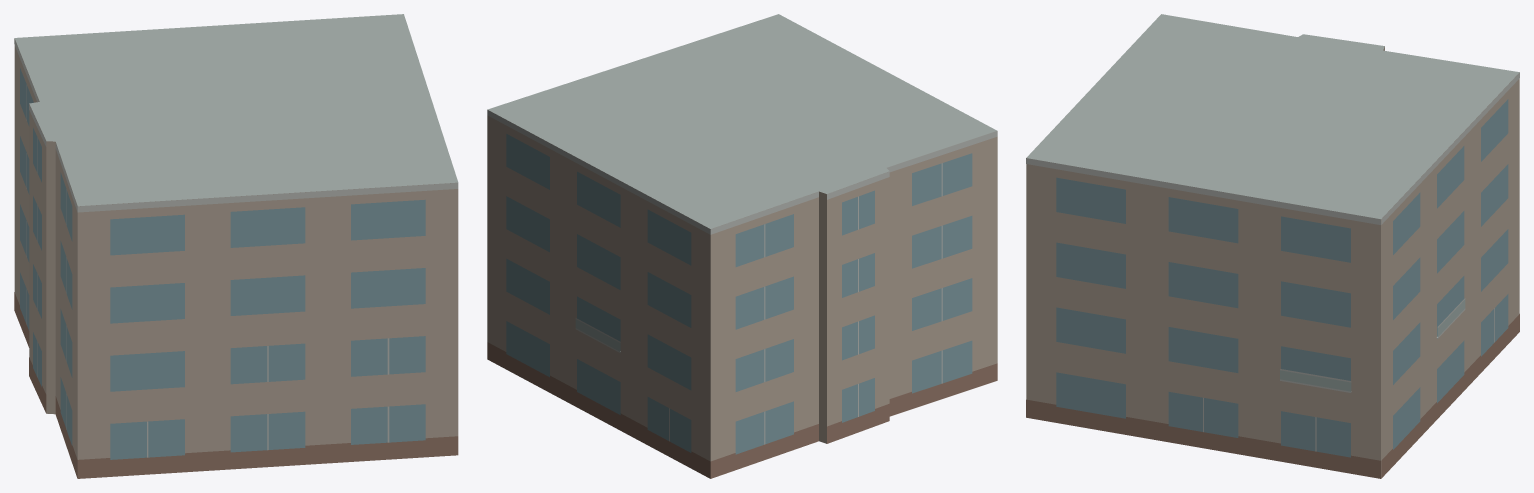
Rendered from survey-upis-32690769.glb.
The picture shows the model from 3 angles, left to right: view 1: azimuth 30°, elevation 25°; view 2: azimuth 150°, elevation 25°; view 3: azimuth 270°, elevation 25°; orthographic projection. The views are drawn at different scales.
Parts seen in each view (by area): view 1: survey-upis-32690769.tmp; view 2: survey-upis-32690769.tmp; view 3: survey-upis-32690769.tmp.
Part boxes in pixels (box(x1,y1,x2,y2)): survey-upis-32690769.tmp: box(14, 14, 458, 478); survey-upis-32690769.tmp: box(487, 14, 997, 478); survey-upis-32690769.tmp: box(1026, 14, 1519, 478).
Size of the model in its own units: 17.98 by 10.6 by 18.28.
